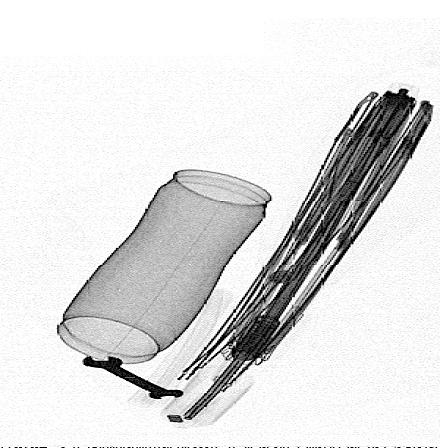Wrench: (81, 353, 184, 400)
